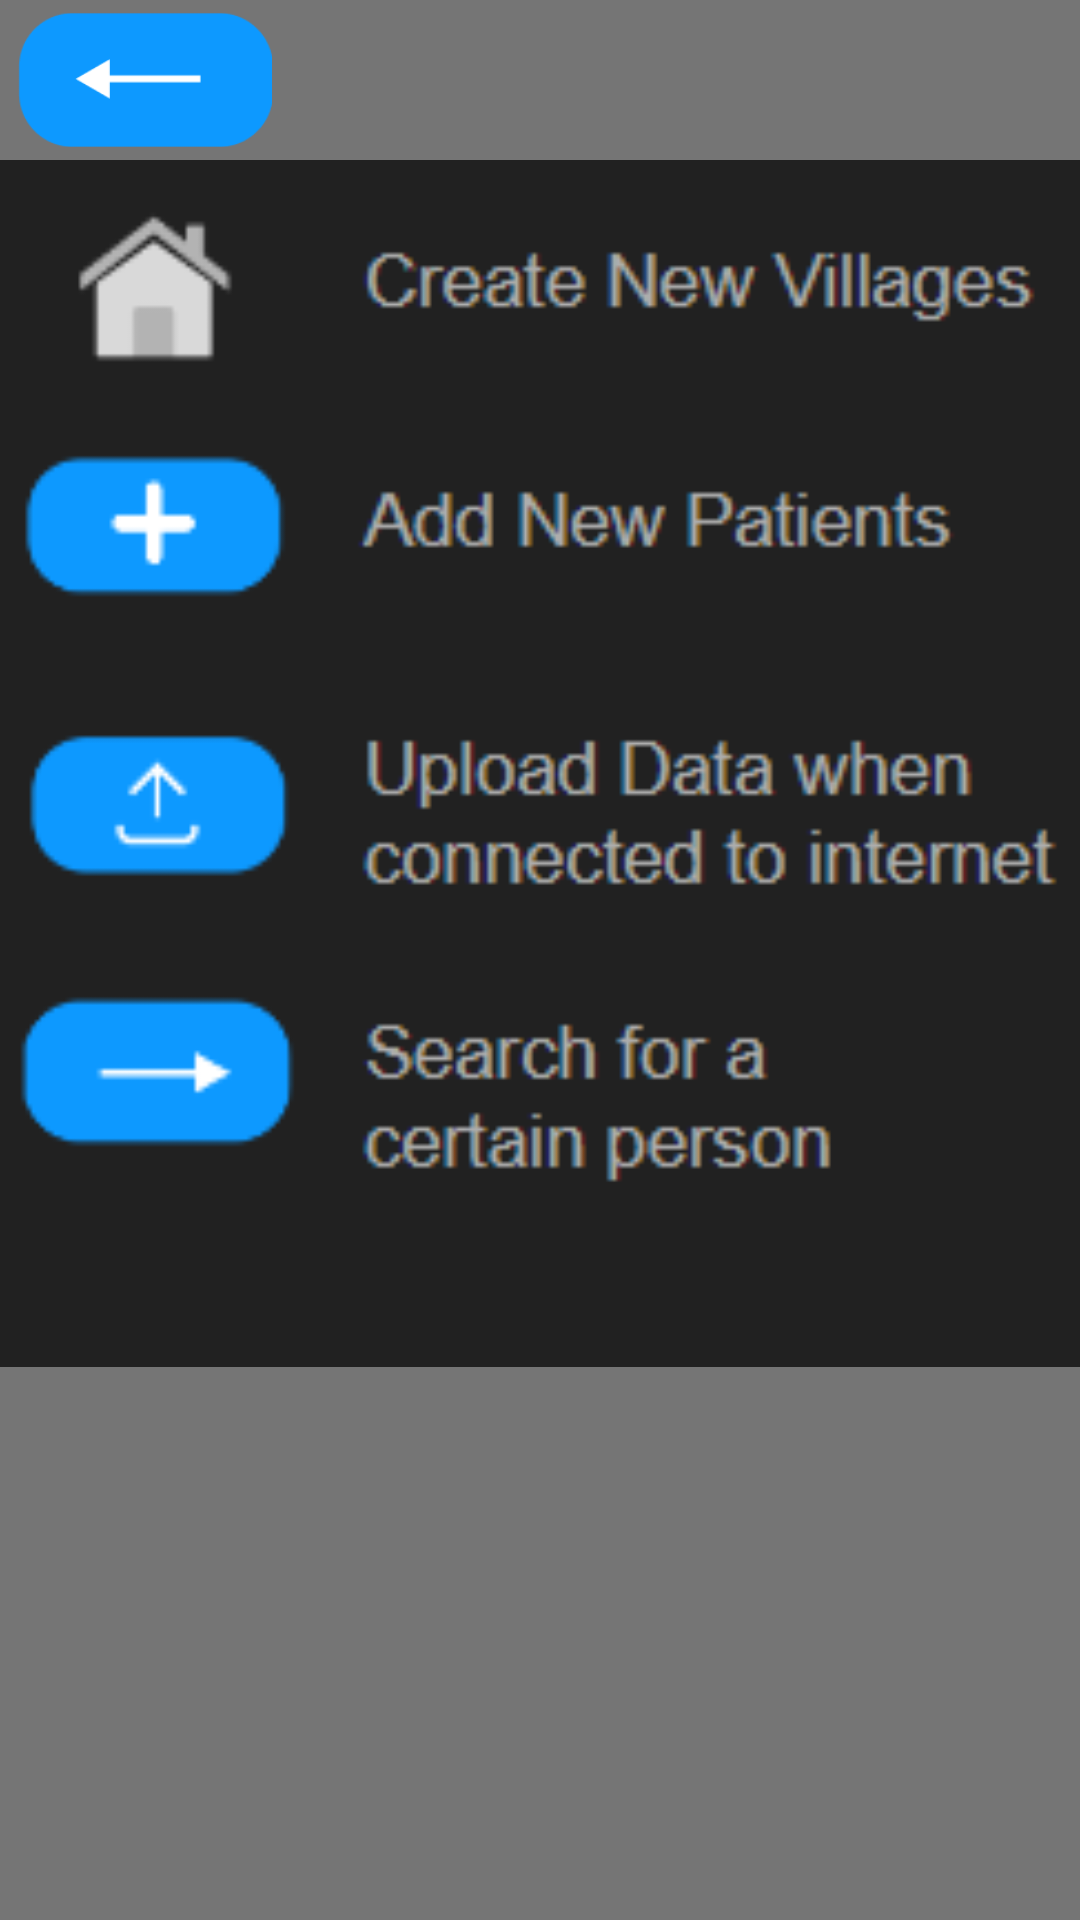

Locate icon controls on the screen. Image size 1080px×1920px, boxes as (x1, y1, x2, y2).
back: (19, 13, 272, 147)
